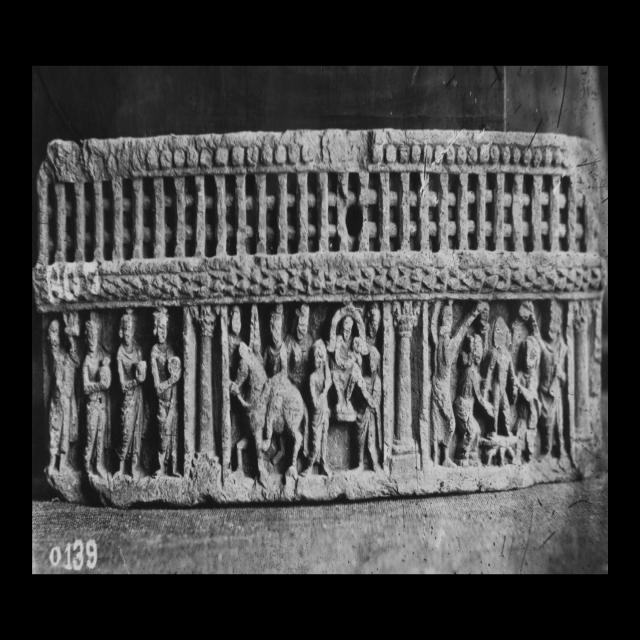buddha-sitting: (324, 308, 374, 422)
buddha-standing: (482, 319, 522, 435)
